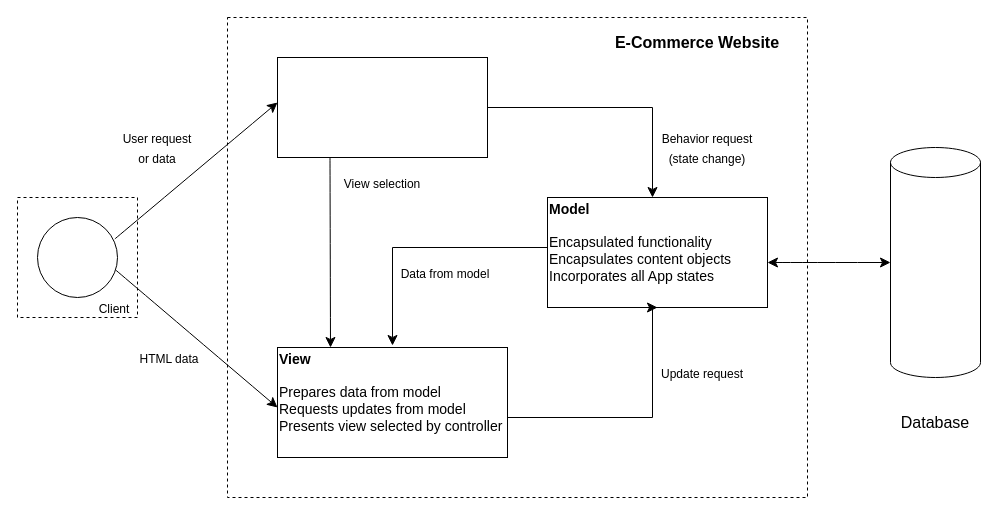
The diagram is 998 pixels wide and 515 high, and some of its shapes have lost their labels. Each missing label, with the box of its shape:
Browser: (36, 216, 118, 298)
Controller Manages user requests Selects model behavior Selects view response: (276, 56, 488, 158)
